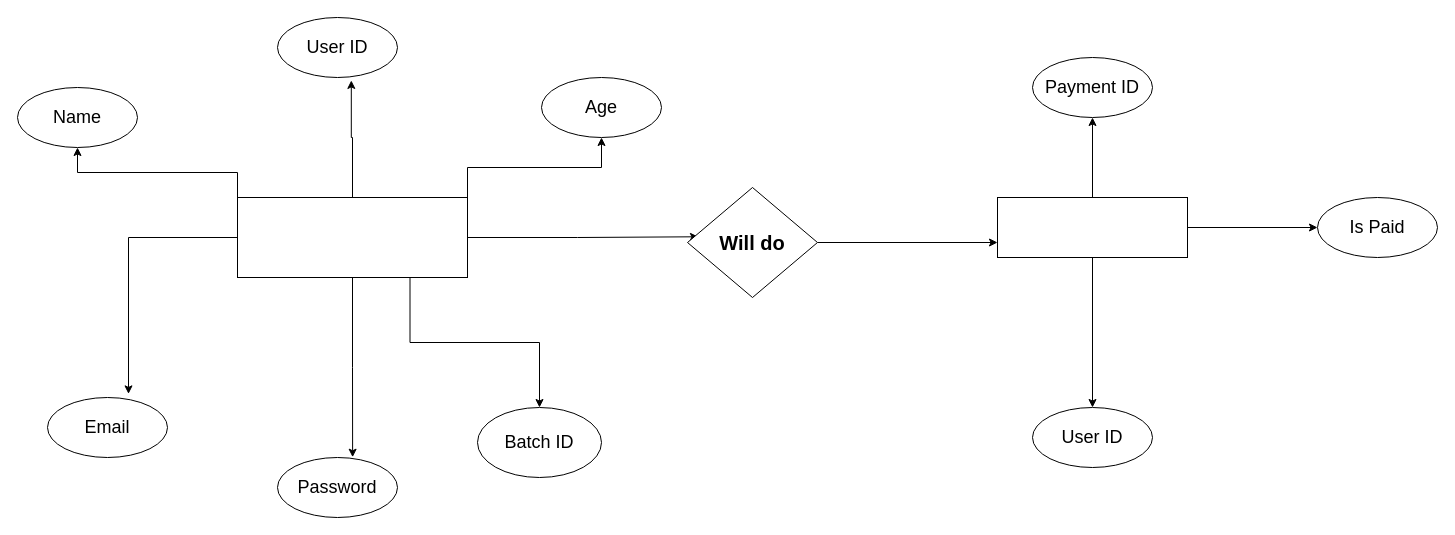
This 1455x535 diagram has some shape labels left out. The shapes that lost their labels are listed below. From the top down, each one's centre as x and y in pixels, then its label:
At [352,237]: "User".
At [1092,227]: "Payment".
